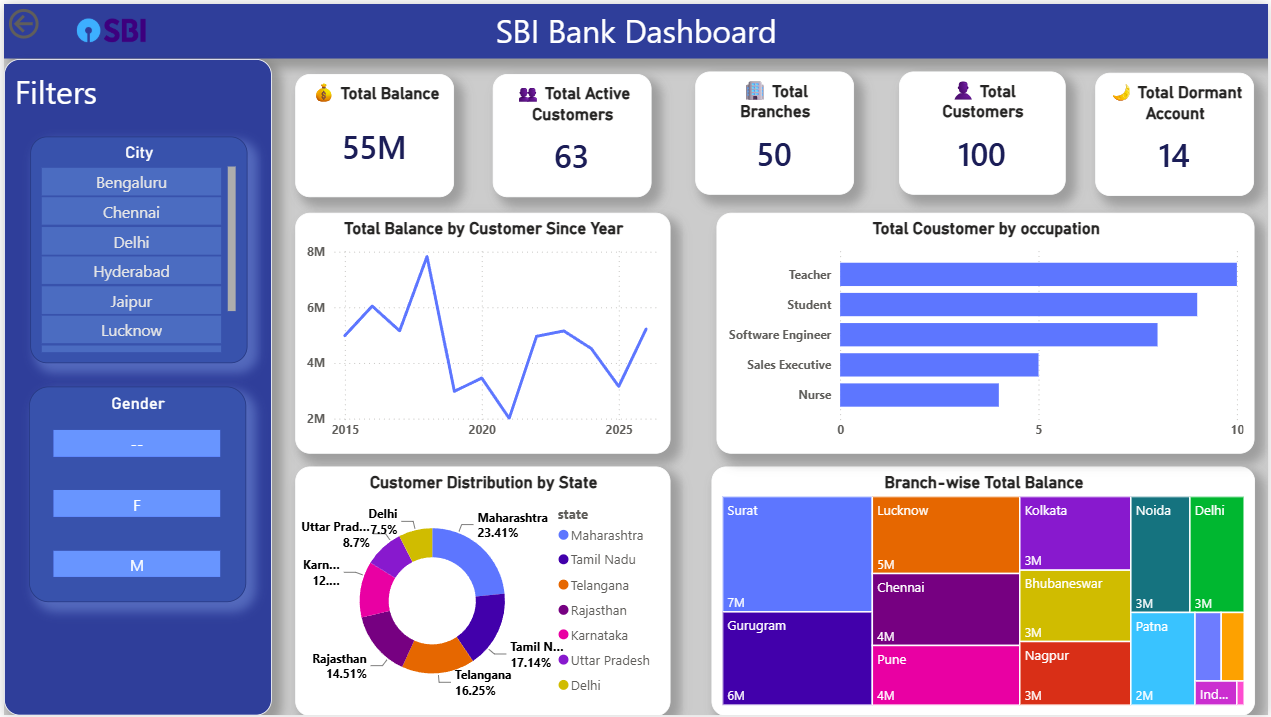

This screenshot's page, from the dashboard's own definition file:
{"tool":"powerbi","page":{"name":"Dashboard","canvas":[1280,720],"ordinal":0},"visuals":[{"type":"textbox","box":[0,0,1280.3,54.9],"z":0},{"type":"group","id":"g1","title":"Group 1","box":[495.3,68.6,771.2,127.6],"z":0,"group":"g2"},{"type":"cardVisual","title":"👥 Total Active Customers","fields":{"Data":["Customer_360.Total Active Customers"]},"box":[495.3,71.3,160.5,124.9],"z":0,"group":"g1"},{"type":"textbox","box":[0,55.2,271.2,665],"z":1000},{"type":"cardVisual","title":"🌙 Total Dormant Account","fields":{"Data":["Customer_360.Total Dormant Accounts"]},"box":[1105.9,70,160.5,124.9],"z":1000,"group":"g1"},{"type":"cardVisual","title":"💰 Total Balance","fields":{"Data":["Customer_360.Total Balance"]},"box":[295,71.3,160.5,124.9],"z":1000,"group":"g2"},{"type":"group","id":"g2","title":"Group 2","box":[295,68.6,971.5,127.6],"z":2000},{"type":"cardVisual","title":"👤 Total Customers","fields":{"Data":["Customer_360.Total Coustomer"]},"box":[906.5,69.1,168.8,124.9],"z":2000,"group":"g1"},{"type":"cardVisual","title":"🏢 Total Branches","fields":{"Data":["Customer_360.Total Branches"]},"box":[699.8,68.6,160.5,124.9],"z":3000,"group":"g1"},{"type":"treemap","title":"Branch-wise Total Balance","fields":{"Group":["Customer_360.branch_city"],"Values":["Customer_360.Total Balance"]},"box":[716.3,467.9,550.3,252.5],"z":3000},{"type":"clusteredBarChart","fields":{"Category":["Customer_360.occupation"],"Y":["Customer_360.Total Coustomer"]},"box":[721.8,211.3,544.8,244.3],"z":4000},{"type":"lineChart","title":"Total Balance by Customer Since Year","fields":{"Category":["Customer_360.customer_since.Variation.Date Hierarchy.Year"],"Y":["Customer_360.Total Balance"]},"box":[295,211.3,380.1,244.3],"z":5000},{"type":"donutChart","title":"Customer Distribution by State","fields":{"Y":["Sum(Customer_360.customer_id)"],"Category":["Customer_360.state"]},"box":[295,467.9,380.1,252.5],"z":6000},{"type":"advancedSlicerVisual","title":"Gender","fields":{"Values":["Customer_360.gender"]},"box":[25.8,387.7,219.6,218.4],"z":7000},{"type":"actionButton","box":[0,0,100,40],"z":8000},{"type":"image","box":[25.8,6.1,166.9,40.5],"z":9000},{"type":"listSlicer","title":"City","fields":{"Values":["Customer_360.city"]},"box":[27,133.7,219.6,229.4],"z":10000}]}

Visuals, with their boxes in screenshot pixels (x1, y1, x2, y2), scaled from the page's 1280x720 canvas onto the 1271x717 screenshot:
textbox: BBox(0, 0, 1270, 55)
"Group 1" group: BBox(492, 68, 1258, 195)
"👥 Total Active Customers" cardVisual: BBox(492, 71, 651, 195)
textbox: BBox(0, 55, 269, 716)
"🌙 Total Dormant Account" cardVisual: BBox(1098, 70, 1257, 194)
"💰 Total Balance" cardVisual: BBox(293, 71, 452, 195)
"Group 2" group: BBox(293, 68, 1258, 195)
"👤 Total Customers" cardVisual: BBox(900, 69, 1068, 193)
"🏢 Total Branches" cardVisual: BBox(695, 68, 854, 193)
"Branch-wise Total Balance" treemap: BBox(711, 466, 1258, 716)
clusteredBarChart - Customer_360.occupation x Customer_360.Total Coustomer: BBox(717, 210, 1258, 454)
"Total Balance by Customer Since Year" lineChart: BBox(293, 210, 670, 454)
"Customer Distribution by State" donutChart: BBox(293, 466, 670, 716)
"Gender" advancedSlicerVisual: BBox(26, 386, 244, 604)
actionButton: BBox(0, 0, 99, 40)
image: BBox(26, 6, 191, 46)
"City" listSlicer: BBox(27, 133, 245, 362)
